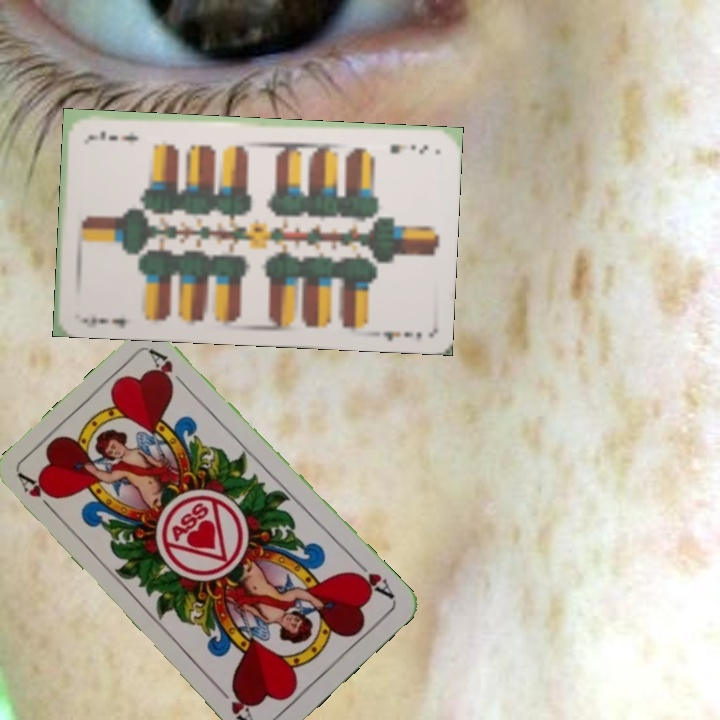E7: (78, 312, 129, 330), (386, 140, 431, 157)
HA: (14, 470, 61, 519), (347, 555, 397, 601)
